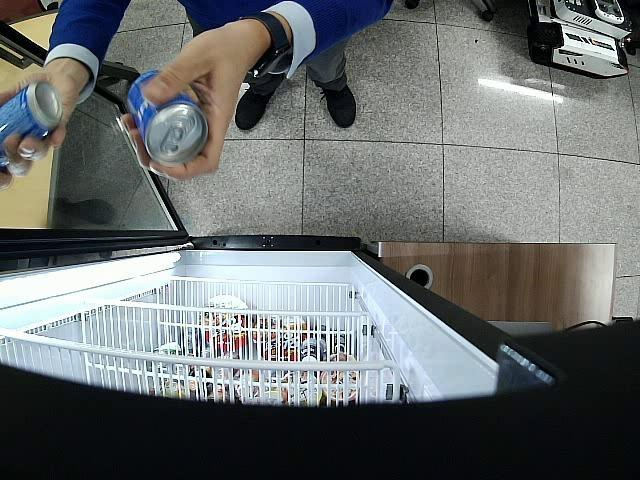15_letsbe: (127, 70, 208, 168), (0, 81, 62, 162)
